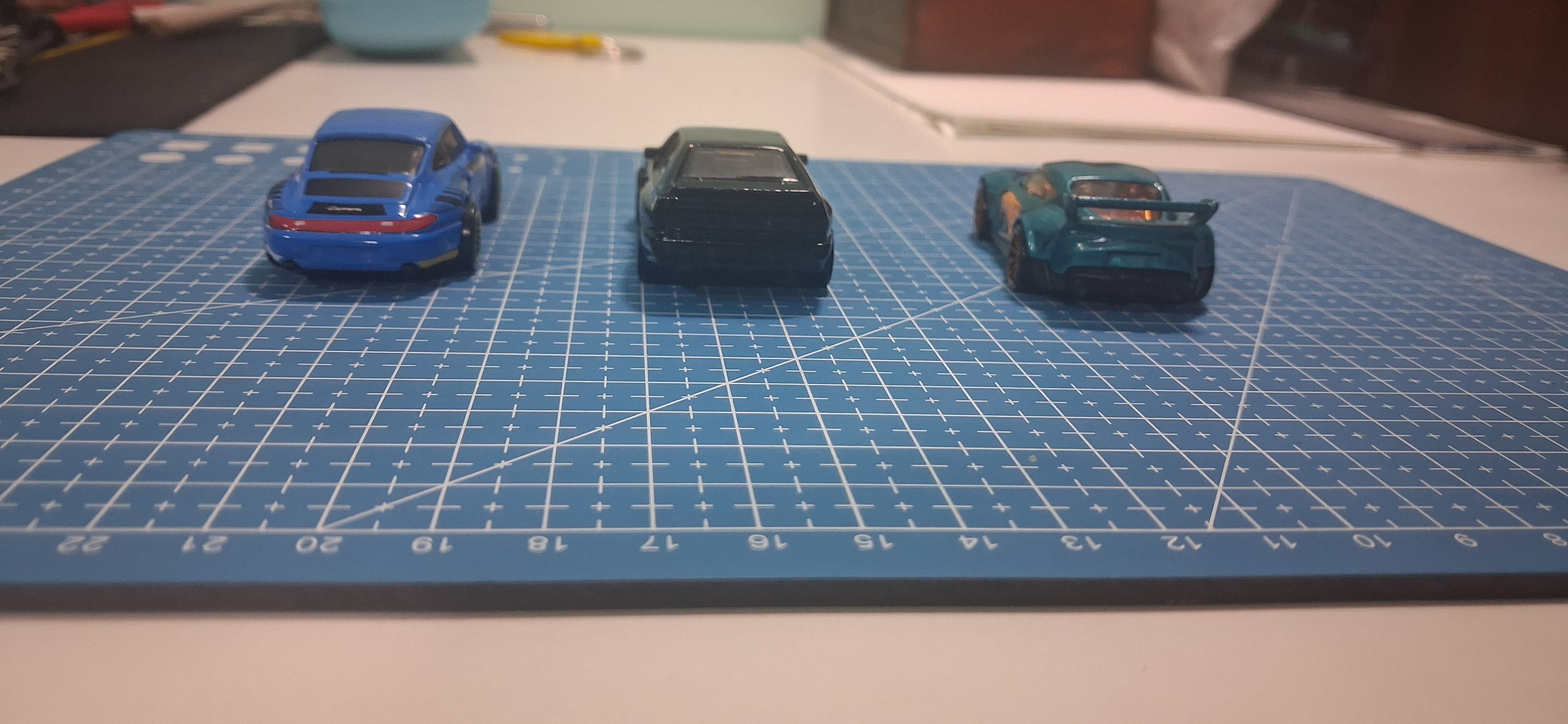Audi_Quattro: (605, 101, 883, 332)
Porsche_Carrera: (225, 96, 534, 329)
Toyota_GR_Supra: (965, 95, 1253, 354)
